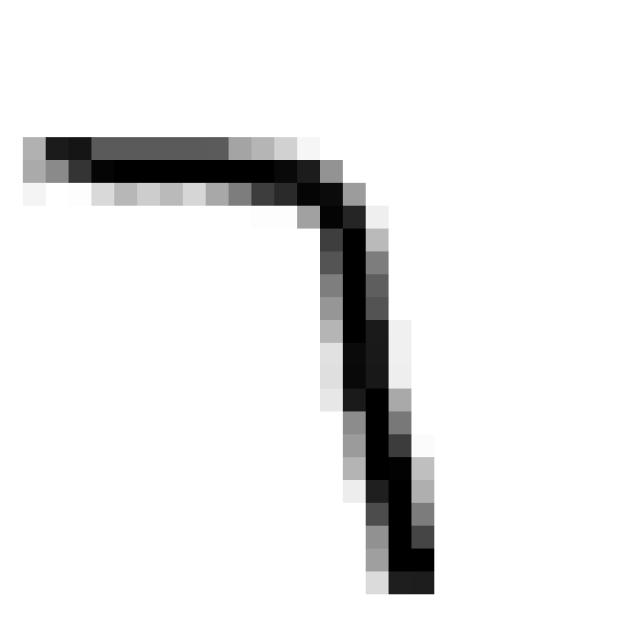6 -six-: (16, 114, 459, 617)
